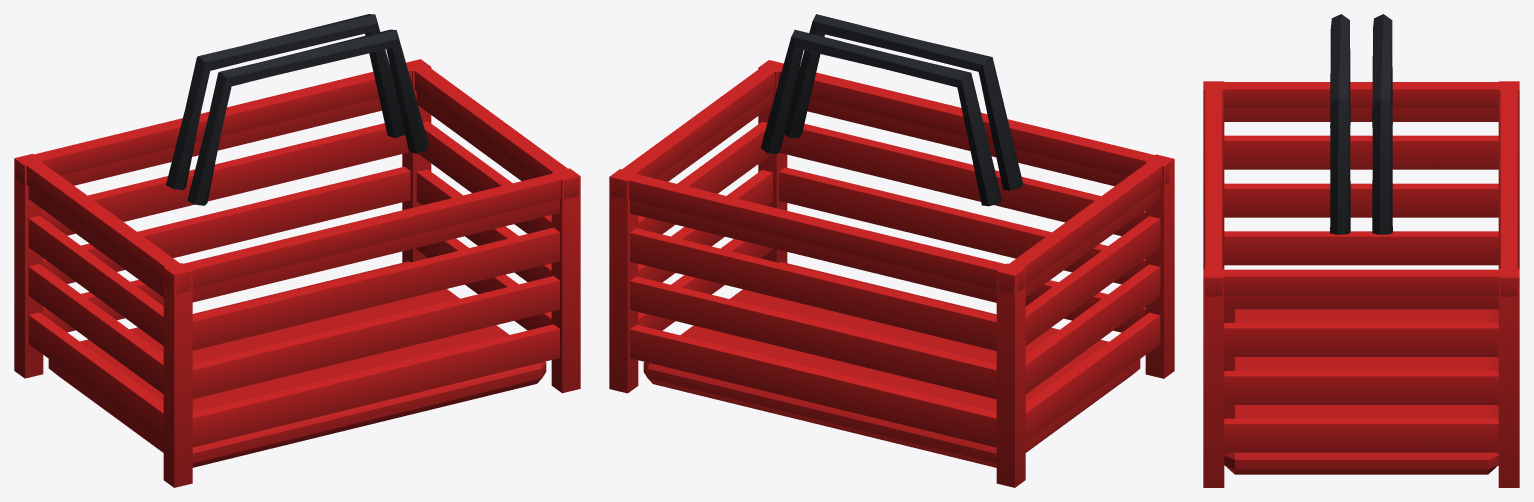
The model's file is shopping_basket_01.glb.
3 views of the same model, side by side, from view 1: azimuth 30°, elevation 25°; view 2: azimuth 150°, elevation 25°; view 3: azimuth 270°, elevation 25° (orthographic).
Parts seen in each view (by area): view 1: shopping_basket_01_LOD0; view 2: shopping_basket_01_LOD0; view 3: shopping_basket_01_LOD0.
Part boxes in pixels (bbox=[...]): shopping_basket_01_LOD0: bbox=[14, 14, 580, 487]; shopping_basket_01_LOD0: bbox=[609, 14, 1174, 487]; shopping_basket_01_LOD0: bbox=[1203, 14, 1519, 487].
Size of what is drawn, in the model's own units: 0.44 by 0.3486 by 0.3.
Materials: 1 (1 with a texture image).
